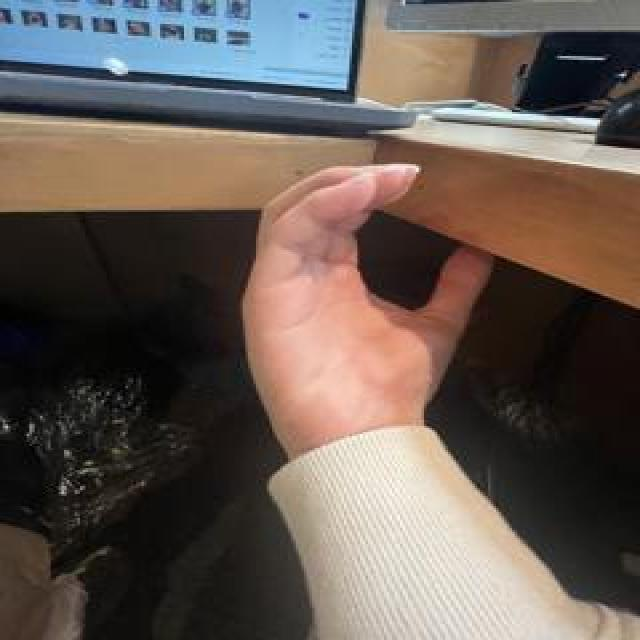C: (233, 160, 498, 462)
